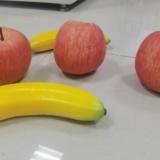apple: (53, 21, 106, 76), (1, 27, 31, 86), (135, 31, 160, 97)
